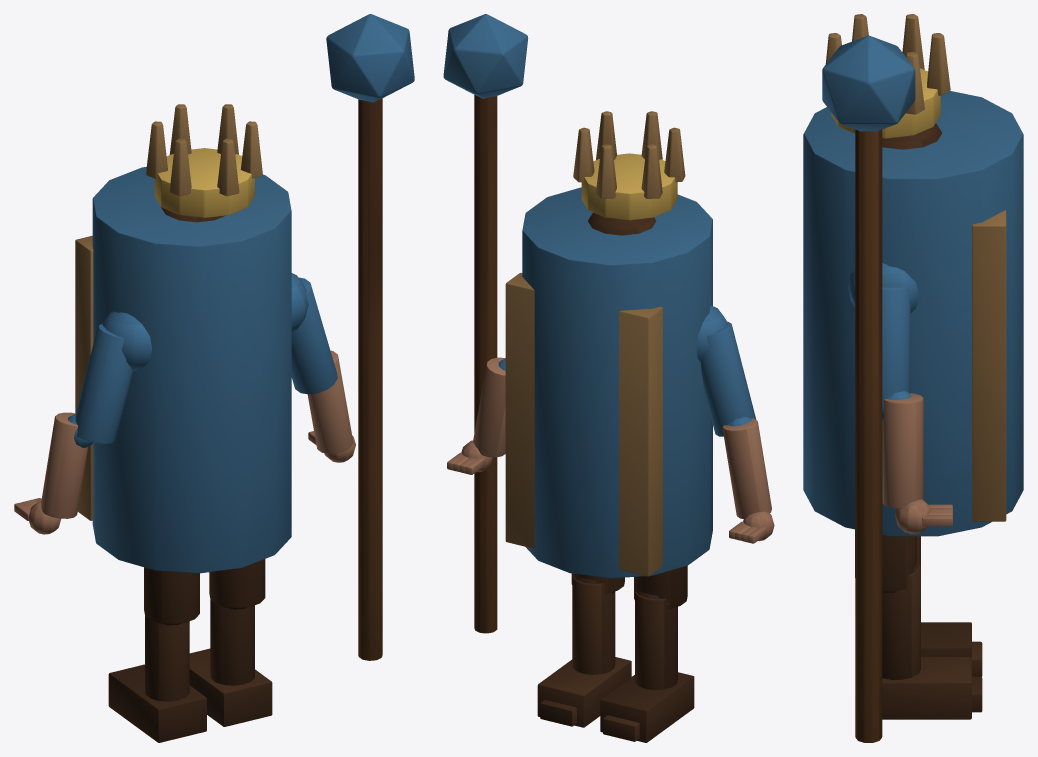
The model's file is unit_freetown_island_speaker.fbx.
3 renders of one model, left to right at view 1: azimuth 30°, elevation 25°; view 2: azimuth 150°, elevation 25°; view 3: azimuth 270°, elevation 25°, orthographic. The views are drawn at different scales.
Visible parts, largest first — view 1: unit_freetown_island_speaker; view 2: unit_freetown_island_speaker; view 3: unit_freetown_island_speaker.
Part boxes in pixels (box(x1,y1,x2,y2)): unit_freetown_island_speaker: box(14, 14, 414, 742); unit_freetown_island_speaker: box(443, 14, 774, 742); unit_freetown_island_speaker: box(803, 14, 1023, 742).
Size of the model in its own units: 1.31 by 2.37 by 0.64.
